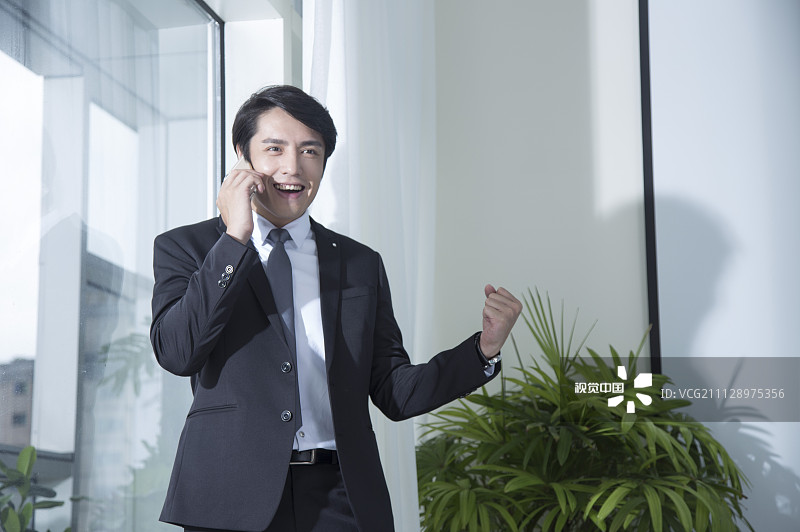calling: (205, 143, 269, 255)
no-phone: (459, 267, 527, 369)
